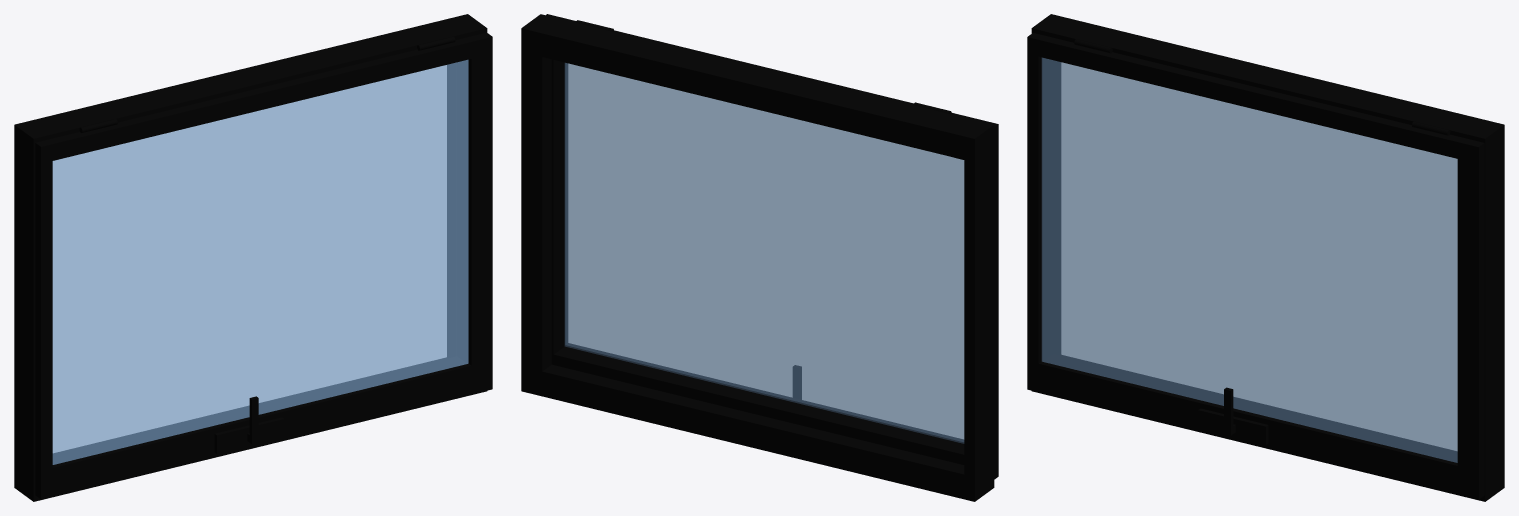
File: window_alternative.fbx
3 renders of one model, left to right at view 1: azimuth 30°, elevation 25°; view 2: azimuth 150°, elevation 25°; view 3: azimuth 330°, elevation 25°, orthographic.
Parts seen in each view (by area): view 1: Anta.003, Telaio.003; view 2: Anta.003, Telaio.003; view 3: Anta.003, Telaio.003.
Boxes of the visible parts, x1,y1,x2,y2 form: Anta.003: (35,32,492,499); Telaio.003: (14,14,487,501); Anta.003: (546,14,998,479); Telaio.003: (521,14,994,501); Anta.003: (1027,33,1484,499); Telaio.003: (1031,14,1504,501).
Size of the model in its own units: 269 by 207 by 33.31.
